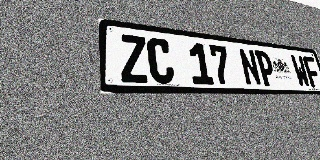1: (187, 42, 214, 85)
7: (208, 44, 234, 85)
C: (146, 37, 175, 84)
F: (302, 56, 320, 87)
N: (238, 48, 262, 86)
P: (254, 50, 278, 86)
W: (290, 54, 311, 87)
Z: (119, 34, 149, 83)
